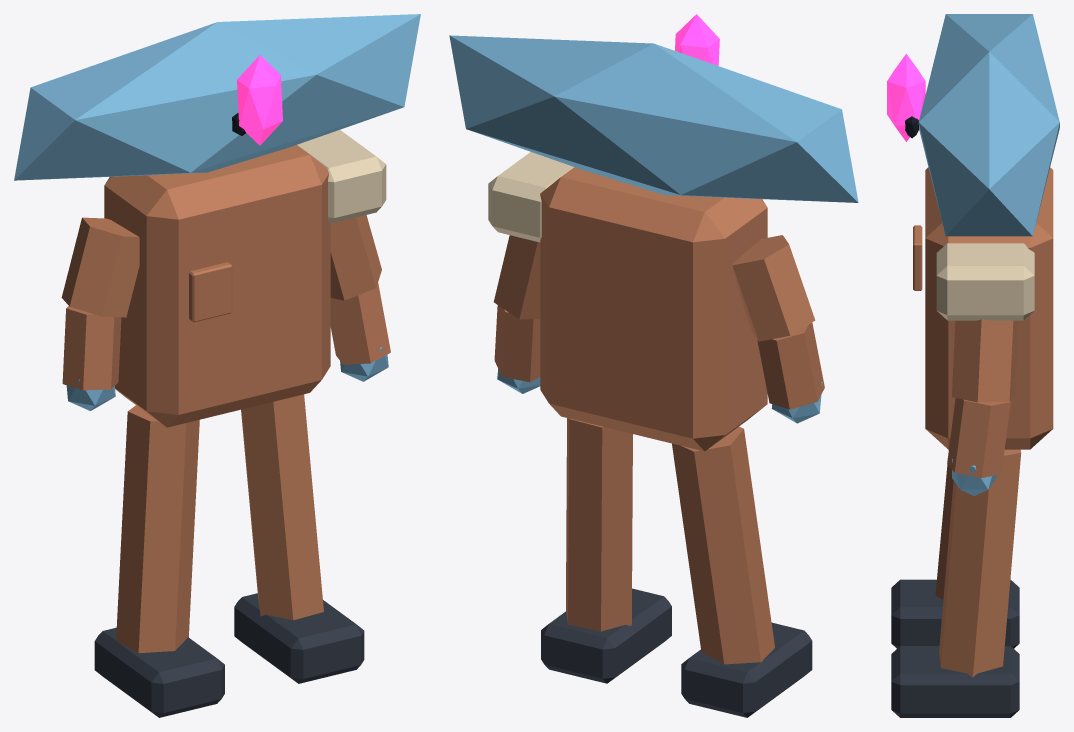
File: npcs_007_seed11.glb
The picture shows the model from 3 angles, left to right: view 1: azimuth 30°, elevation 25°; view 2: azimuth 150°, elevation 25°; view 3: azimuth 270°, elevation 25°; orthographic projection. The views are drawn at different scales.
Visible parts, largest first — view 1: npcs_007_seed11; view 2: npcs_007_seed11; view 3: npcs_007_seed11.
Part boxes in pixels (x1,y1,x2,y2): npcs_007_seed11: (14,14,420,717); npcs_007_seed11: (449,14,858,717); npcs_007_seed11: (887,14,1059,717).
Size of the model in its own units: 1.22 by 1.83 by 0.4598.
